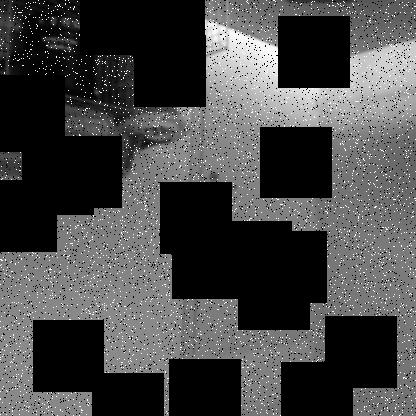Porte: (180, 16, 327, 367)
